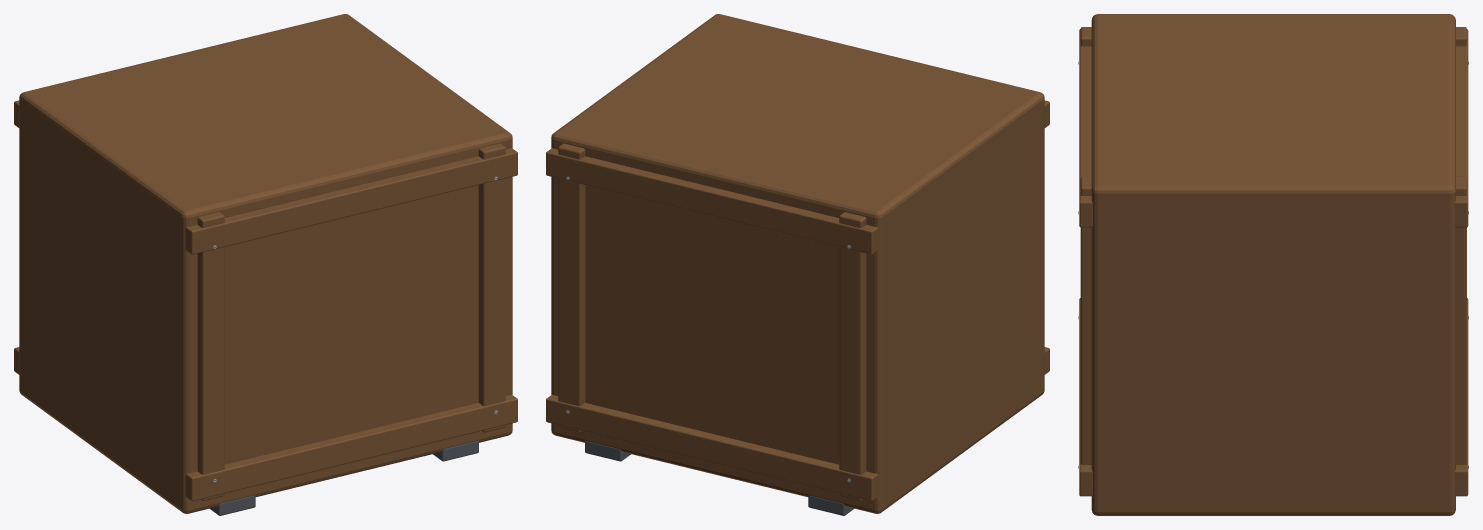
The model's file is crate.glb.
3 renders of one model, left to right at view 1: azimuth 30°, elevation 25°; view 2: azimuth 150°, elevation 25°; view 3: azimuth 270°, elevation 25°, orthographic. The views are drawn at different scales.
Parts seen in each view (by area): view 1: crate; view 2: crate; view 3: crate.
Boxes of the visible parts, x1,y1,x2,y2 form: crate: [14, 14, 517, 515]; crate: [546, 14, 1049, 515]; crate: [1078, 14, 1468, 515].
Bounding box in the file's own units: 0.8 × 0.72 × 0.7511.
